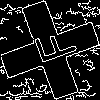F: (25, 25, 78, 70)
